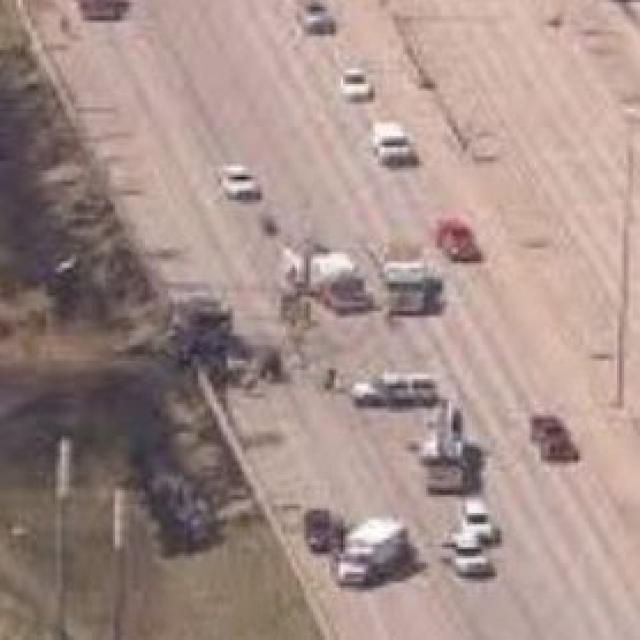traffic_incident: (115, 272, 258, 395)
